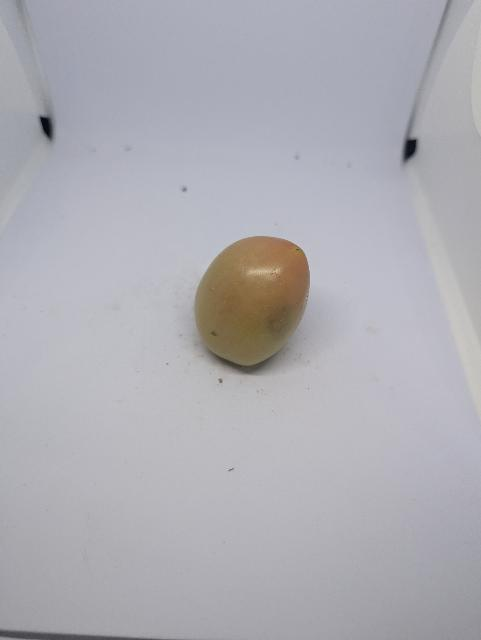breaker: (189, 231, 315, 368)
